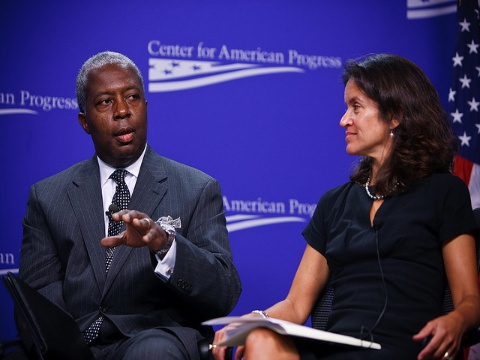hand: (99, 208, 163, 250)
